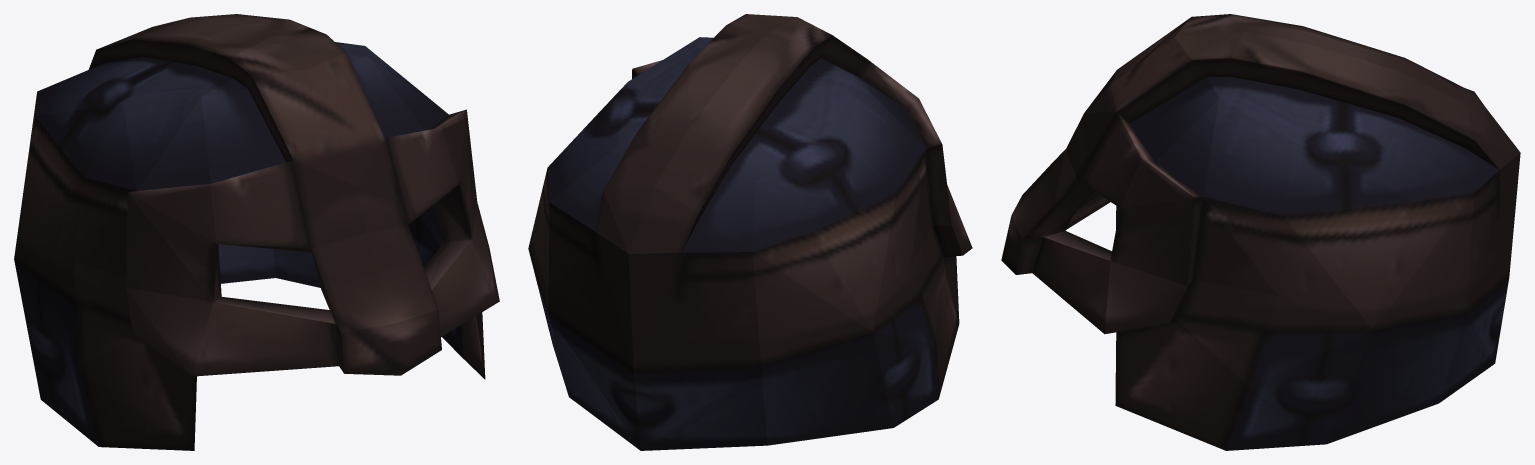
File: leather_helm_drop.fbx
3 views of the same model, side by side, from view 1: azimuth 30°, elevation 25°; view 2: azimuth 150°, elevation 25°; view 3: azimuth 270°, elevation 25° (orthographic). The views are drawn at different scales.
Visible parts, largest first — view 1: obj0; view 2: obj0; view 3: obj0.
Boxes of the visible parts, box(x1,y1,x2,y2) form: obj0: box(14, 14, 499, 450); obj0: box(528, 14, 972, 450); obj0: box(1001, 14, 1520, 450).
Bounding box in the file's own units: 0.3199 × 0.2896 × 0.4055.
